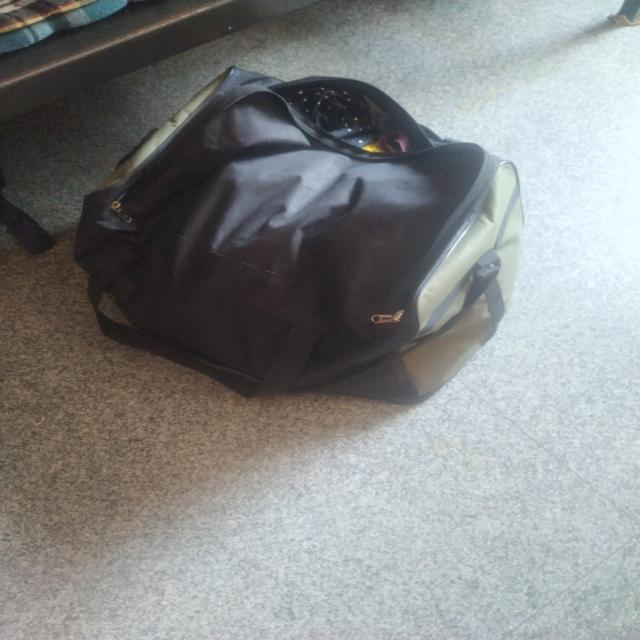suitcaserotation: (70, 62, 532, 407)
